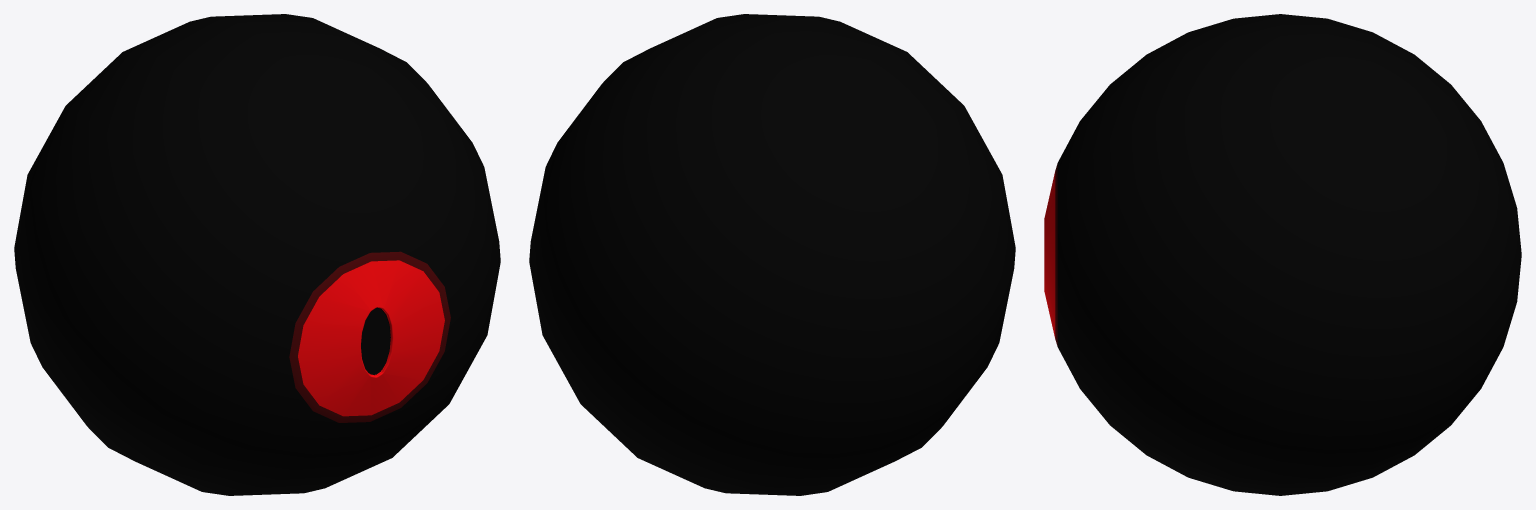
File: eye.fbx
3 renders of one model, left to right at view 1: azimuth 30°, elevation 25°; view 2: azimuth 150°, elevation 25°; view 3: azimuth 270°, elevation 25°, orthographic.
Visible parts, largest first — view 1: Eye_Low+Poly, Eye_Low+Poly.001; view 2: Eye_Low+Poly; view 3: Eye_Low+Poly, Eye_Low+Poly.001.
Part boxes in pixels (box(x1,y1,x2,y2)): Eye_Low+Poly: box(14, 14, 500, 495); Eye_Low+Poly.001: box(298, 260, 444, 416); Eye_Low+Poly: box(529, 14, 1015, 495); Eye_Low+Poly: box(1055, 14, 1521, 495); Eye_Low+Poly.001: box(1044, 171, 1055, 338).
Bounding box in the file's own units: 200 × 200 × 198.
